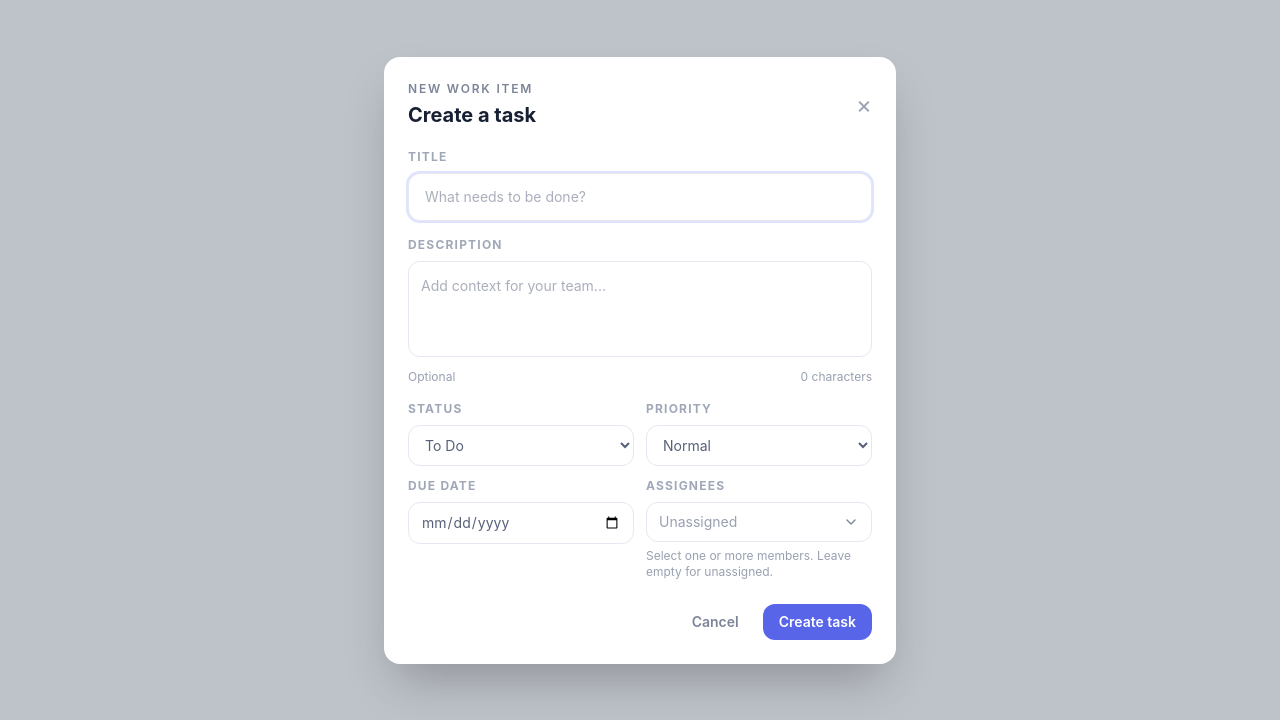
CreateTaskModal › requires only a title and status
Click the button "Create task": [817, 622] box [763, 604, 872, 640]
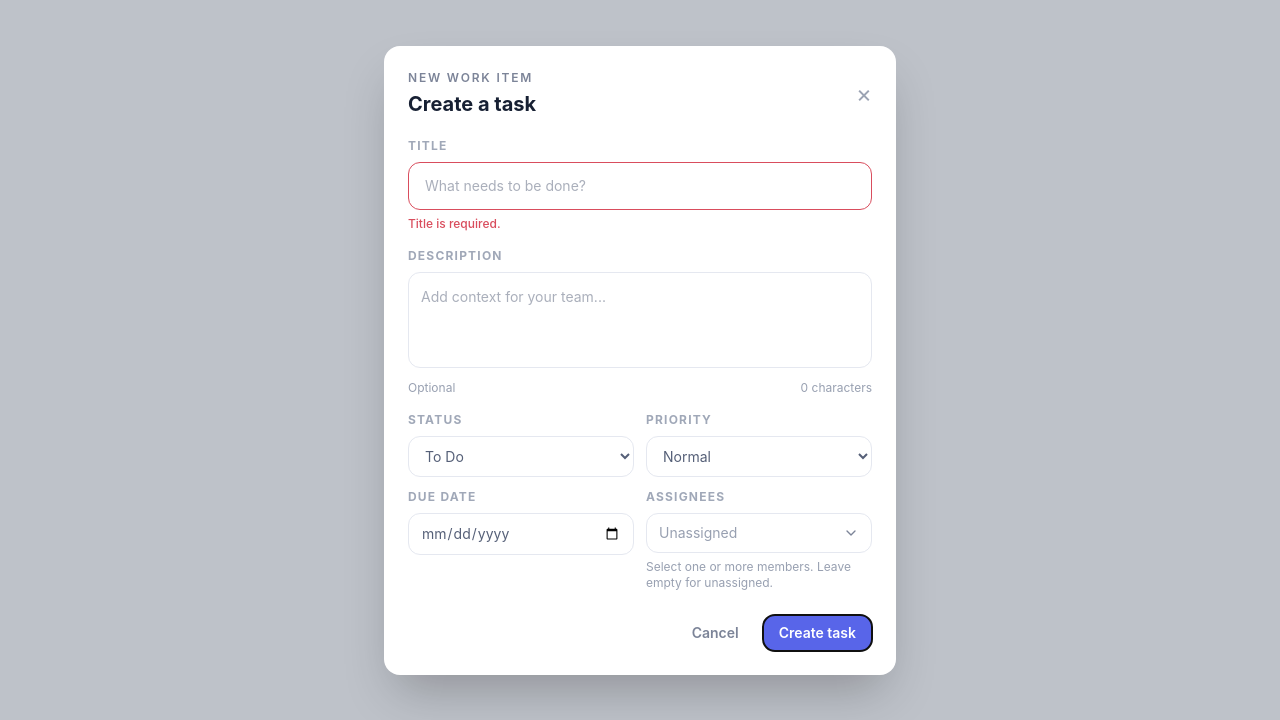
expect the text "Title is required." is shown: met, box [408, 216, 501, 230]
